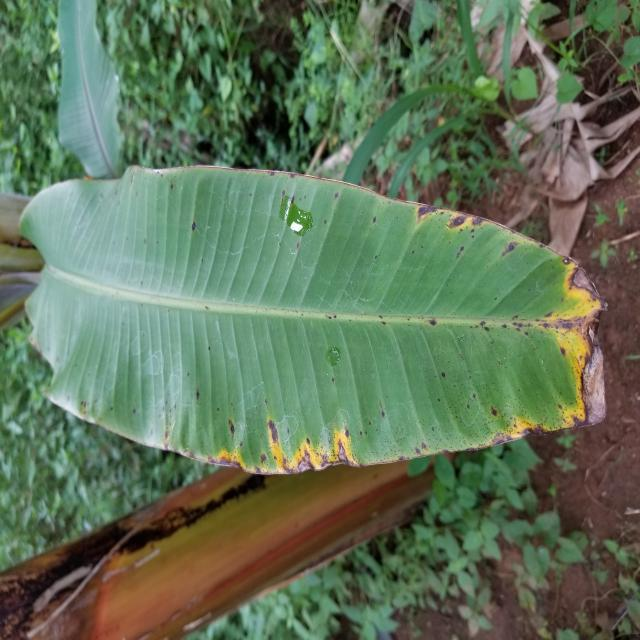Early_rust: (73, 142, 640, 519)
